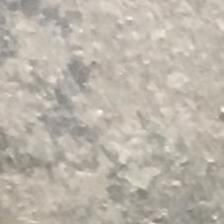Non_Crack: (11, 0, 224, 224)
